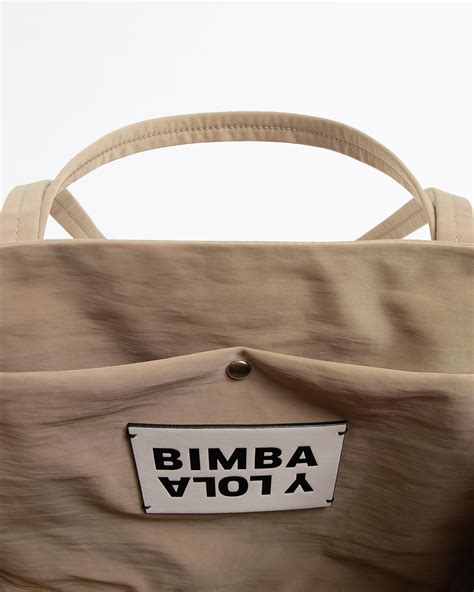nylon: (4, 114, 474, 592)
